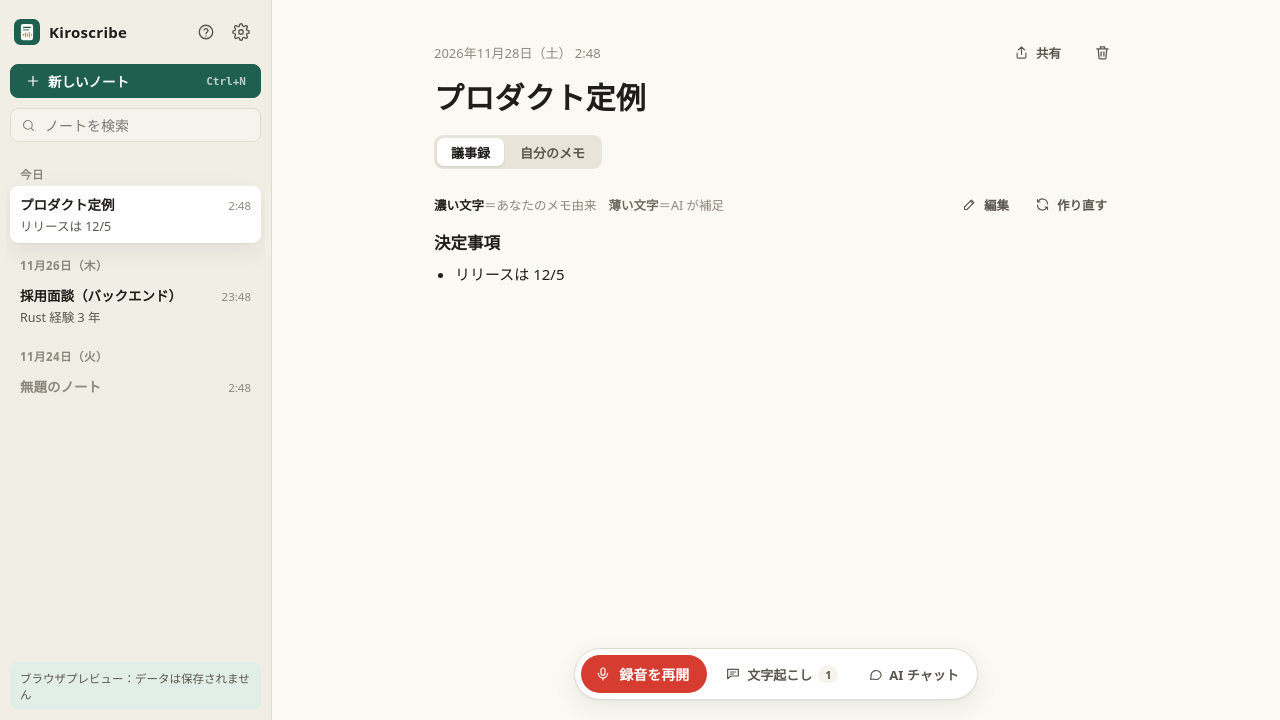
Scenario: 録音: 議事録のあるノートでの再開 › [REC-027] 「新しいノートで録音」を選ぶと、新しいノートを作って開き、そこで録音する
The width and height of the screenshot is (1280, 720).
Expected: the field showing "プロダクト定例" is shown, top-left (434, 74), bottom-right (1118, 121)
Click the button "録音を再開". click: (644, 674)
box: top-left (581, 655), bottom-right (707, 693)
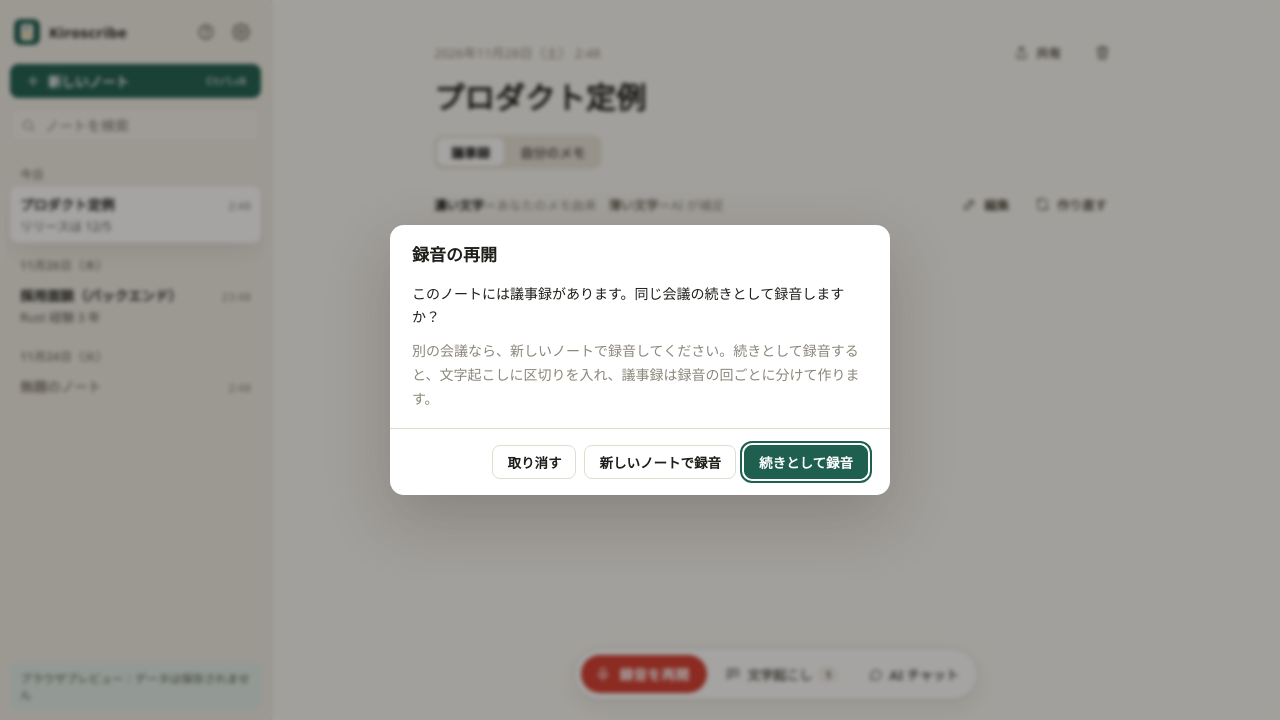
Click the button "新しいノートで録音". click: (660, 462)
box: top-left (584, 446), bottom-right (736, 480)
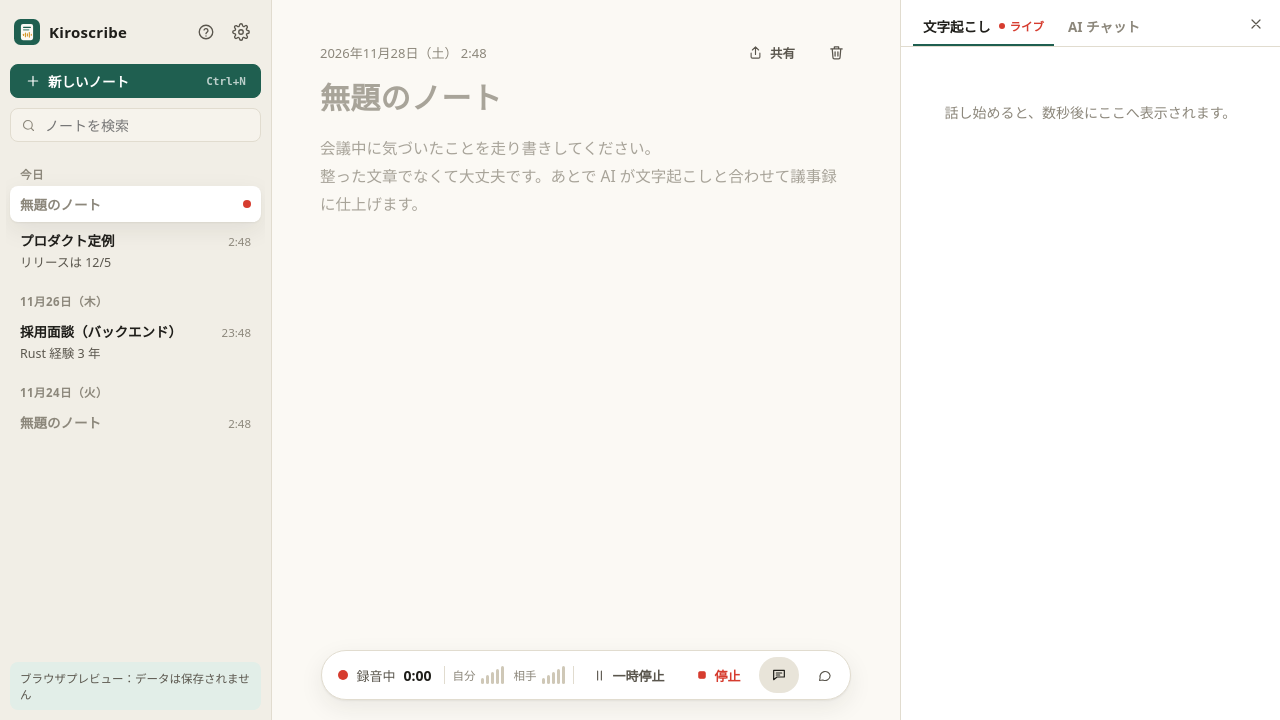
Expected: the element showing "録音中 0:00" is shown, top-left (354, 666), bottom-right (438, 684)
Expected: the field named "タイトル" is empty, top-left (320, 74), bottom-right (852, 121)
